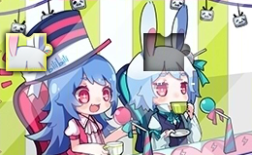gap: (143, 33, 191, 72)
